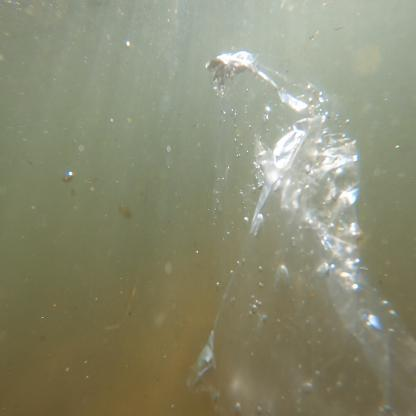Rác: (207, 49, 407, 402)
